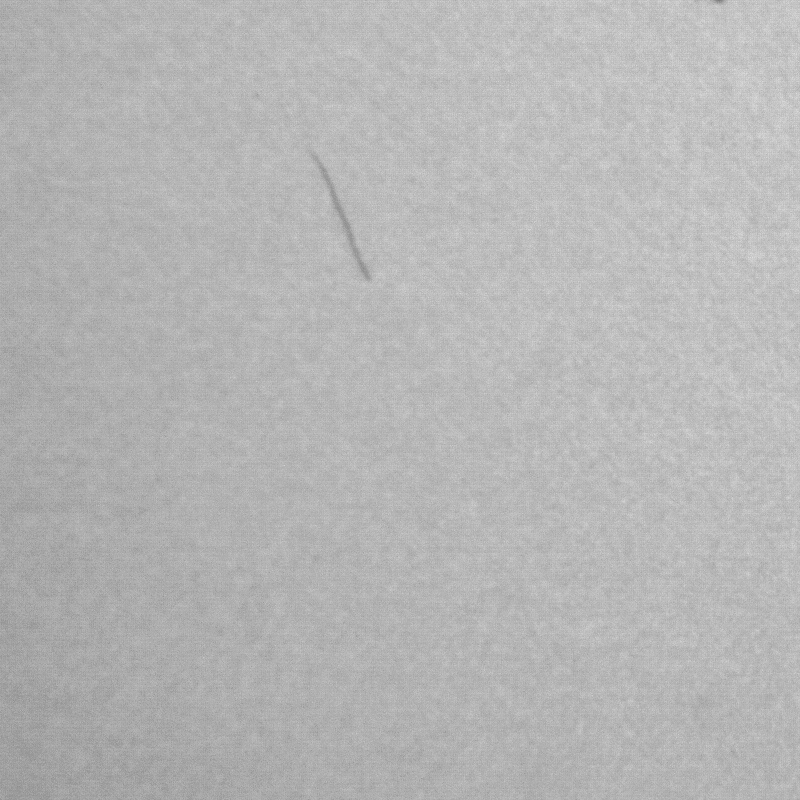defect: (316, 153, 377, 283)
